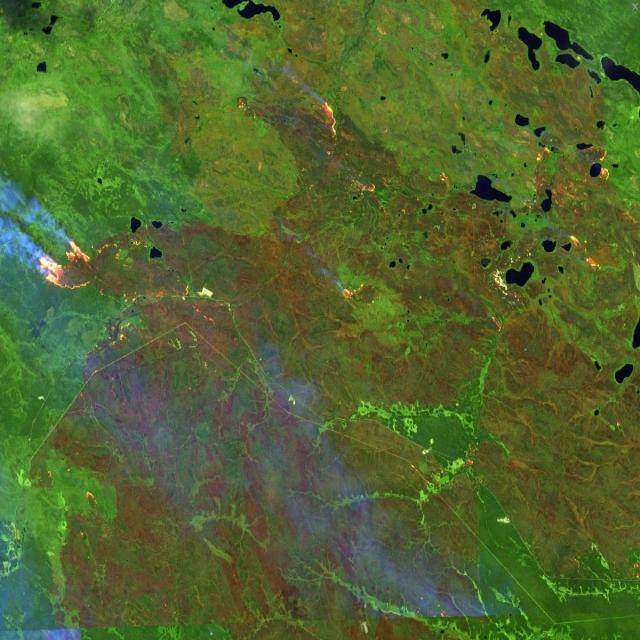fire: (32, 234, 97, 295), (562, 225, 611, 278), (317, 93, 350, 153), (336, 266, 374, 310), (593, 136, 616, 198), (531, 134, 561, 174)
